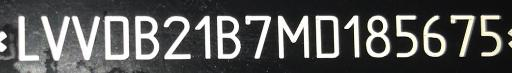letter: (70, 13, 102, 64), (276, 14, 310, 61), (40, 14, 72, 63), (242, 11, 272, 62), (160, 15, 192, 60), (13, 12, 41, 63), (476, 12, 504, 59), (448, 12, 476, 59), (420, 13, 448, 60), (102, 13, 130, 60), (214, 13, 242, 60), (312, 13, 340, 60), (132, 14, 160, 61), (363, 13, 391, 58), (393, 13, 419, 60), (192, 13, 214, 62), (341, 12, 363, 59)
